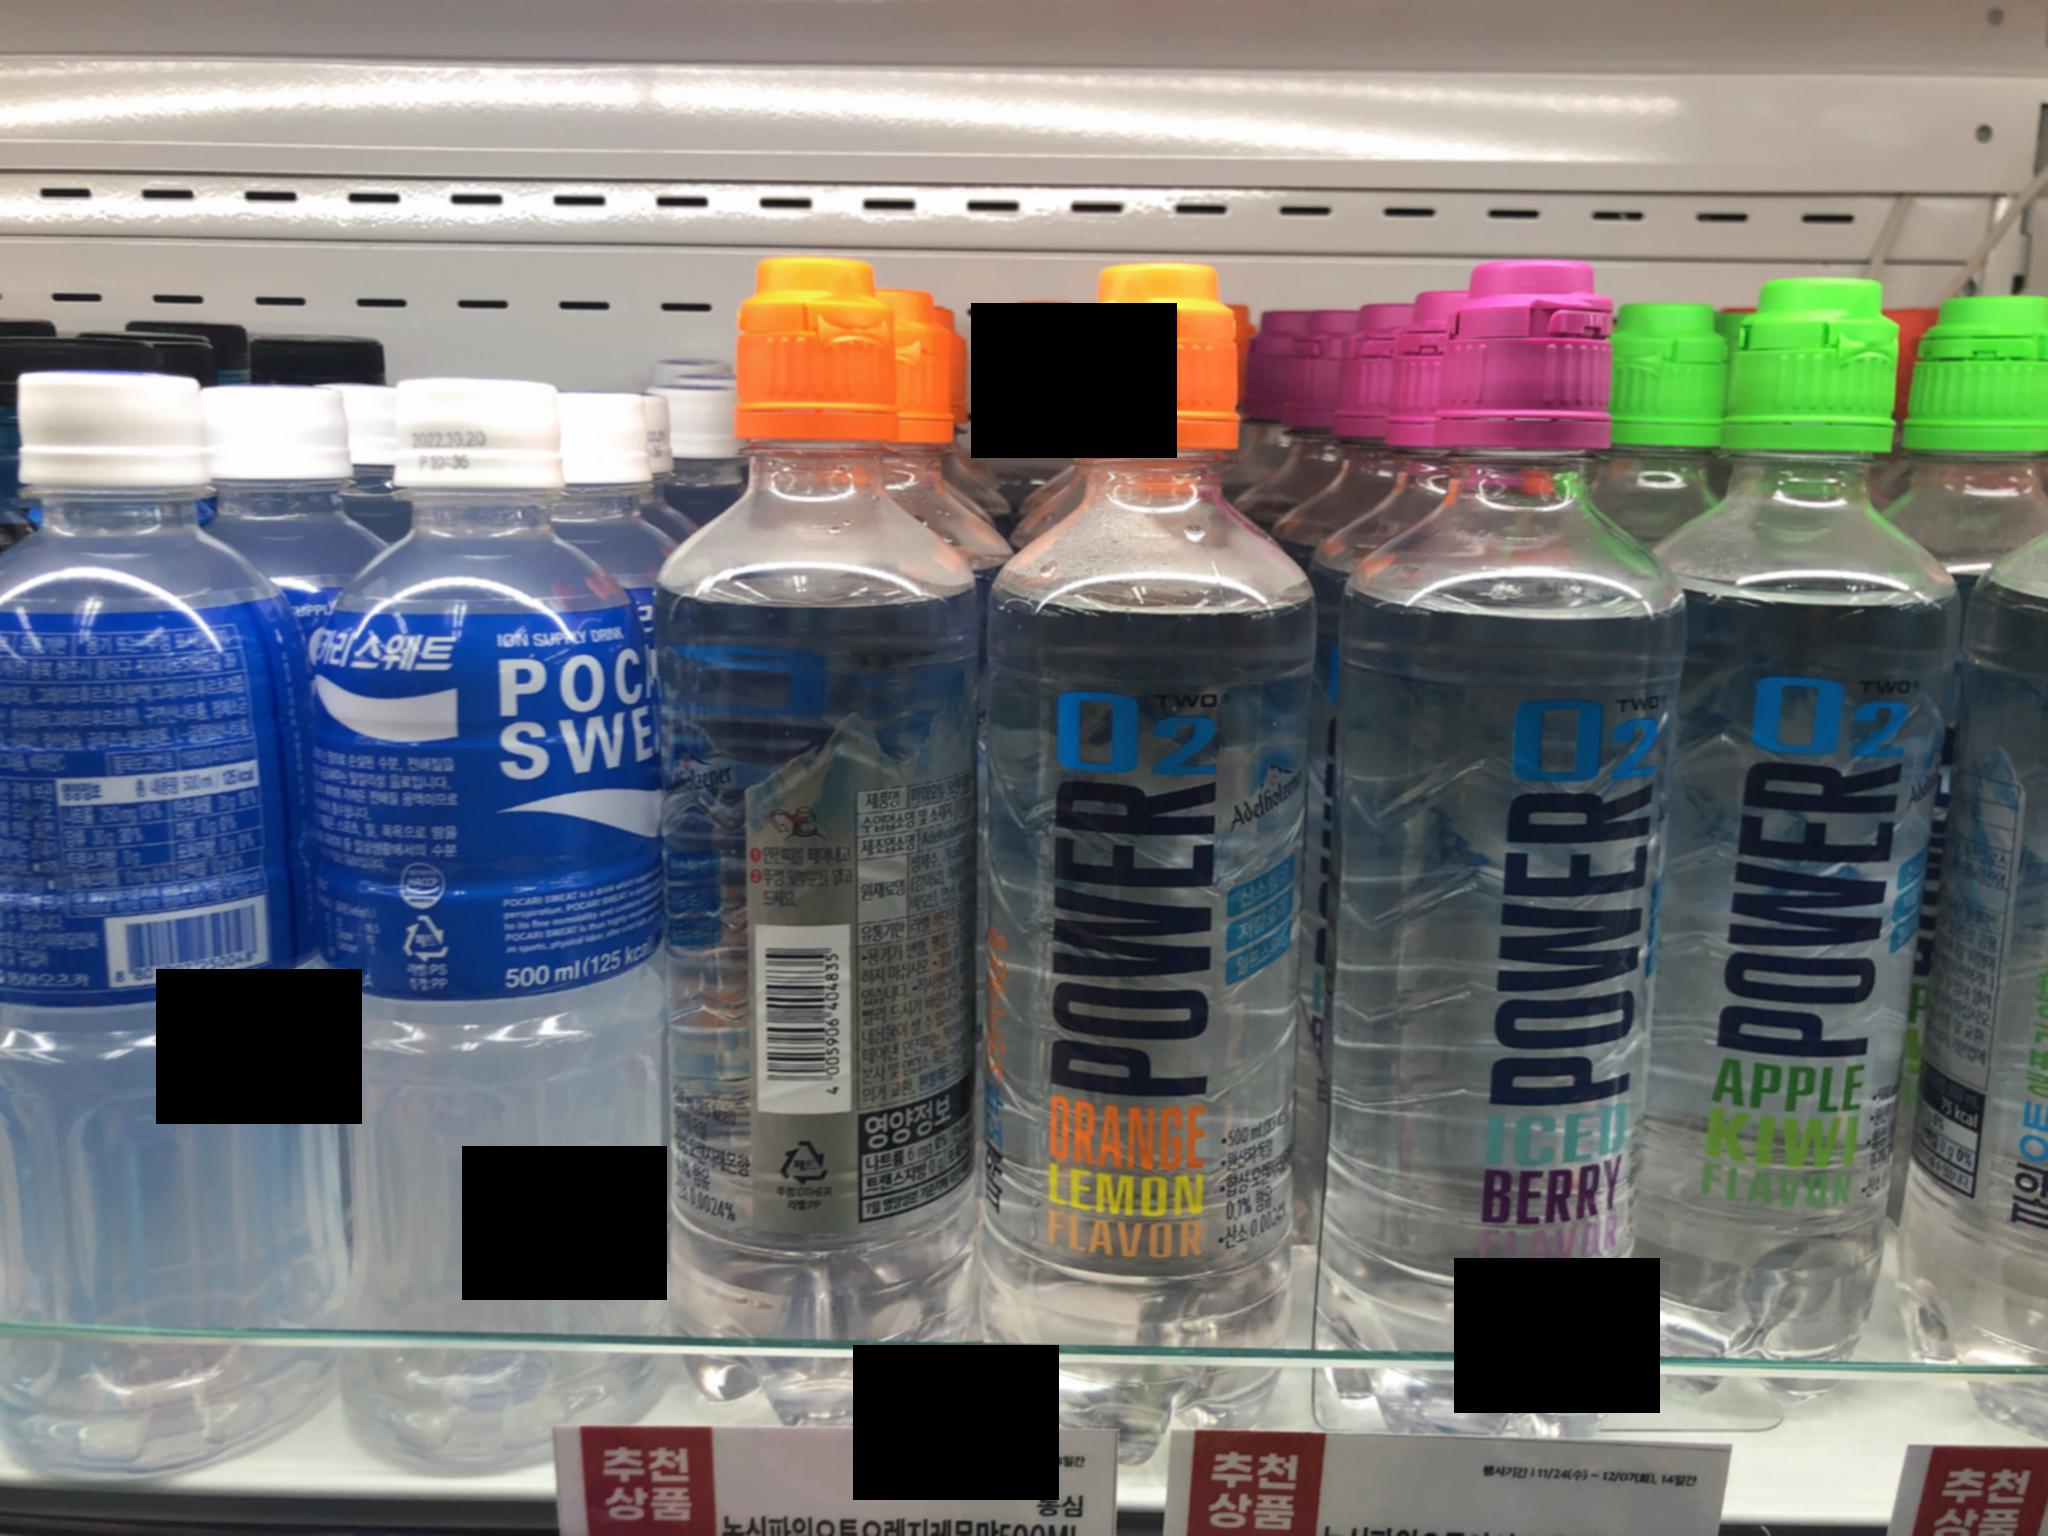pocarisweat: (300, 349, 692, 1478), (0, 366, 327, 1497)
powerO2_orange: (976, 227, 1306, 1444), (666, 234, 961, 1436)
